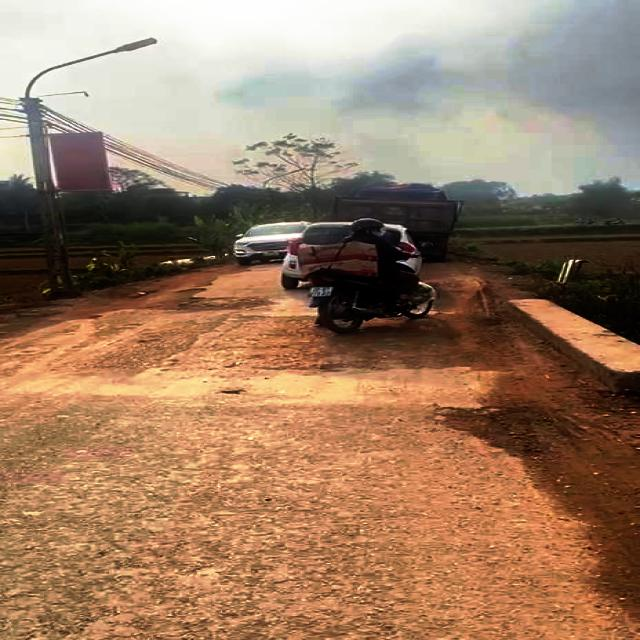pothole: (438, 402, 568, 460), (126, 288, 274, 314)
